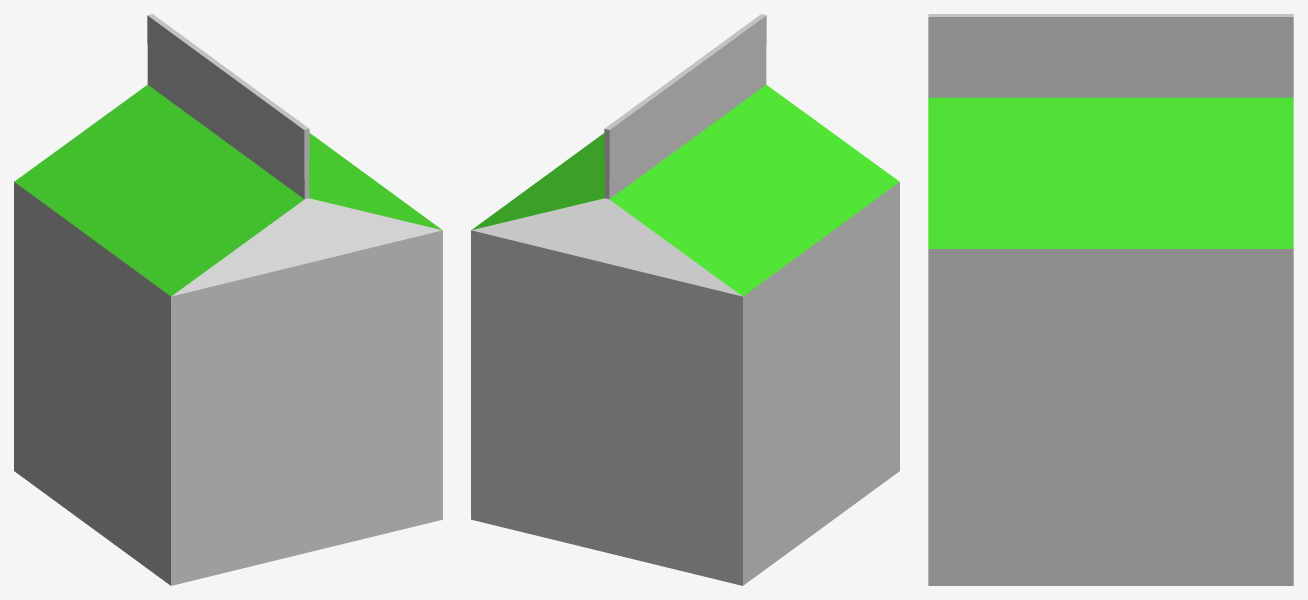
The model's file is milk.fbx.
The picture shows the model from 3 angles, left to right: view 1: azimuth 30°, elevation 25°; view 2: azimuth 150°, elevation 25°; view 3: azimuth 270°, elevation 25°; orthographic projection. The views are drawn at different scales.
Parts seen in each view (by area): view 1: Cube; view 2: Cube; view 3: Cube.
Part boxes in pixels (x1,y1,x2,y2): Cube: (14, 14, 442, 585); Cube: (471, 14, 899, 585); Cube: (928, 14, 1293, 585).
Size of the model in its own units: 200 by 298 by 200.
